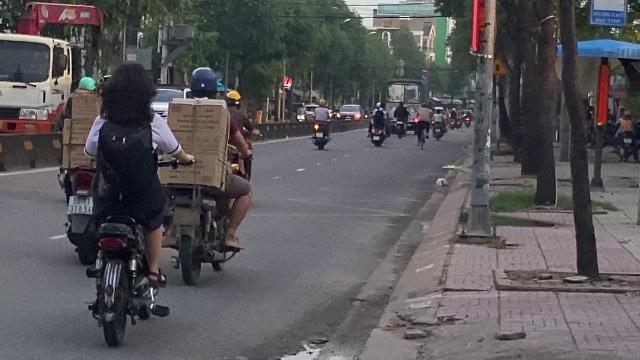helmet: (188, 66, 220, 98)
licenseplate: (172, 208, 198, 224), (68, 196, 92, 212)
motorcyclist: (67, 57, 185, 353), (160, 63, 256, 284)
nohelmet: (98, 64, 154, 124)
